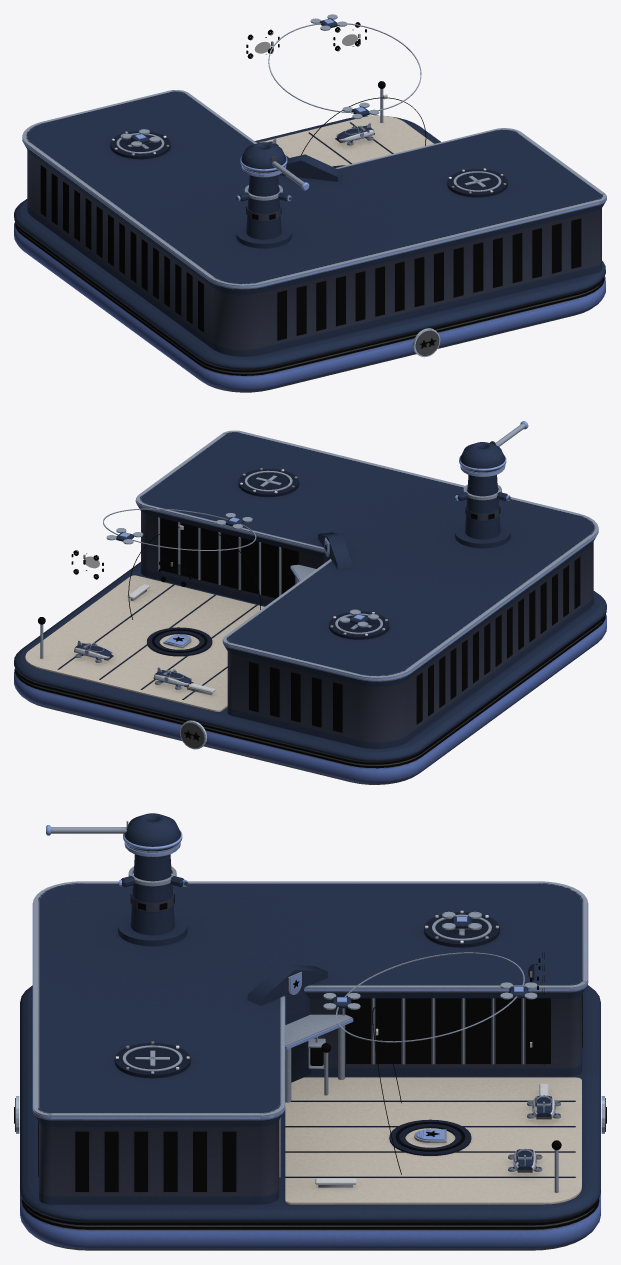
The model's file is SM_Evo_SecurityHQ.fbx.
3 renders of one model, top to bottom at view 1: azimuth 30°, elevation 25°; view 2: azimuth 150°, elevation 25°; view 3: azimuth 270°, elevation 25°, orthographic. The views are drawn at different scales.
Parts seen in each view (by area): view 1: SMN_Evo_SecurityHQ, Emblem_Fx_SecurityHQ, Head_SecurityHQ, SpinOrbit_SecurityHQPatrol, PatrolCar_SecurityHQ1; view 2: SMN_Evo_SecurityHQ, Emblem_Fx_SecurityHQ, Head_SecurityHQ, SpinOrbit_SecurityHQPatrol, PatrolCar_SecurityHQ1, PatrolCar_SecurityHQ2; view 3: SMN_Evo_SecurityHQ, Emblem_Fx_SecurityHQ, Head_SecurityHQ, SpinOrbit_SecurityHQPatrol, PatrolCar_SecurityHQ2, PatrolCar_SecurityHQ1, SpinDish_SecurityHQCam.
Part boxes in pixels (x1,y1,x2,y2): SMN_Evo_SecurityHQ: (14, 88, 606, 392); Emblem_Fx_SecurityHQ: (15, 81, 604, 375); Head_SecurityHQ: (240, 142, 309, 190); SpinOrbit_SecurityHQPatrol: (268, 14, 421, 119); PatrolCar_SecurityHQ1: (335, 123, 374, 145); SMN_Evo_SecurityHQ: (14, 430, 606, 784); Emblem_Fx_SecurityHQ: (15, 468, 605, 768); Head_SecurityHQ: (459, 421, 528, 472); SpinOrbit_SecurityHQPatrol: (103, 508, 256, 550); PatrolCar_SecurityHQ1: (74, 640, 113, 662); PatrolCar_SecurityHQ2: (153, 667, 193, 689); SMN_Evo_SecurityHQ: (15, 842, 605, 1250); Emblem_Fx_SecurityHQ: (14, 894, 606, 1229); Head_SecurityHQ: (46, 813, 182, 851); SpinOrbit_SecurityHQPatrol: (323, 952, 537, 1042); PatrolCar_SecurityHQ2: (527, 1095, 560, 1119); PatrolCar_SecurityHQ1: (508, 1148, 542, 1172); SpinDish_SecurityHQCam: (118, 866, 188, 887).
Size of the model in its own units: 1.84 by 0.877 by 1.88.
